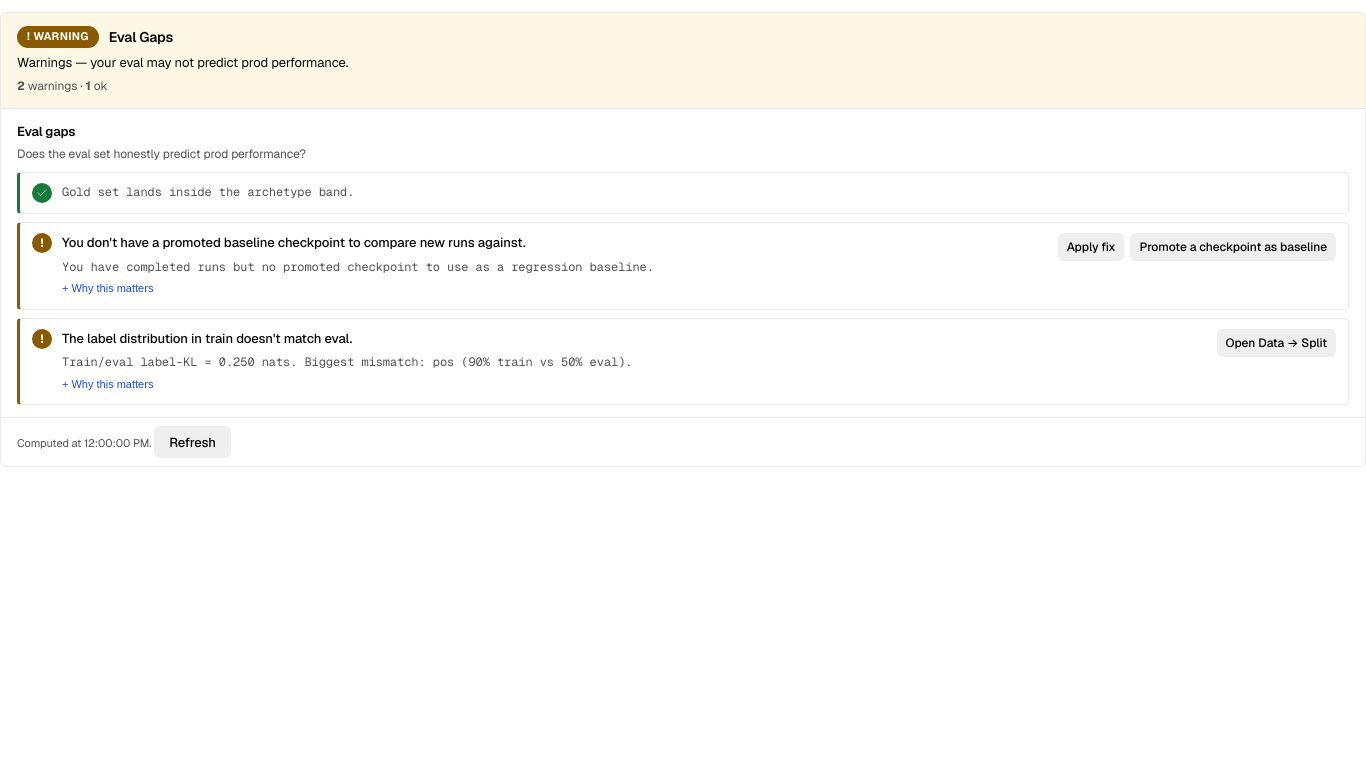
EvalGapsPanel › opens the patch modal, applies, and re-fetches the report
The width and height of the screenshot is (1366, 768).
Click the button with test id "eval-gaps-apply-eval_gaps.no_regression_baseline".
click(1091, 247)  # box x1=1058 y1=233 x2=1124 y2=261
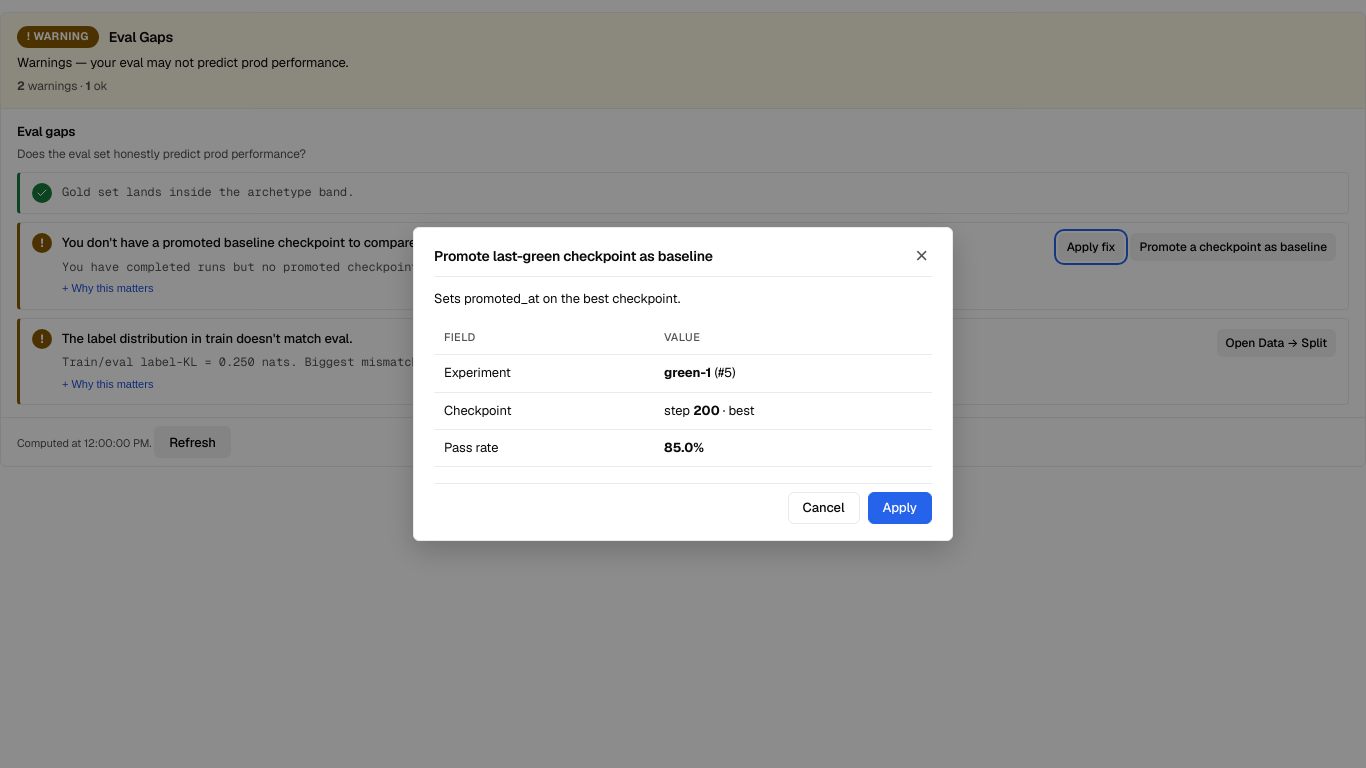
Modal Apply.
Click the button with test id "eval-patch-apply".
click(900, 508)  # box x1=868 y1=492 x2=932 y2=524
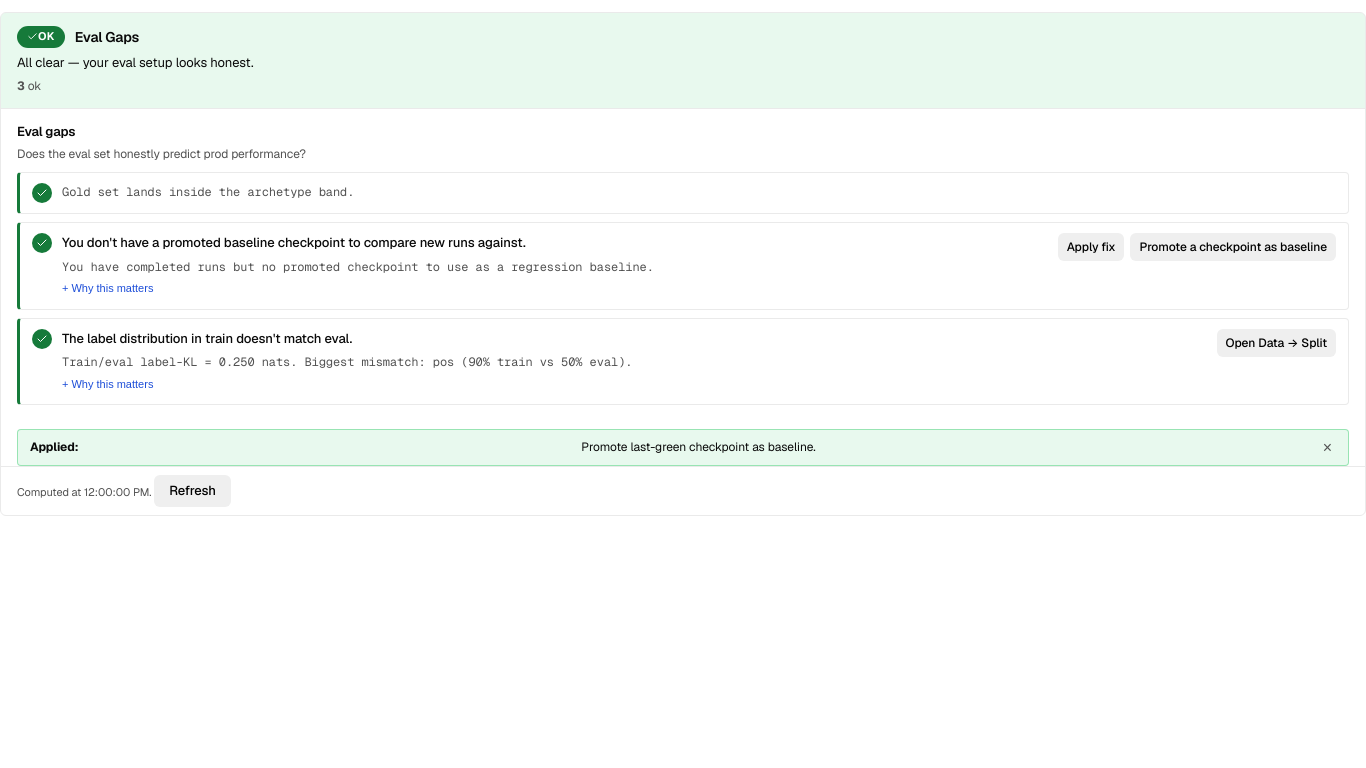
Expected: the message "Applied: Promote last-green checkpoint as baseline. ×" is shown, x1=17 y1=429 x2=1349 y2=466
